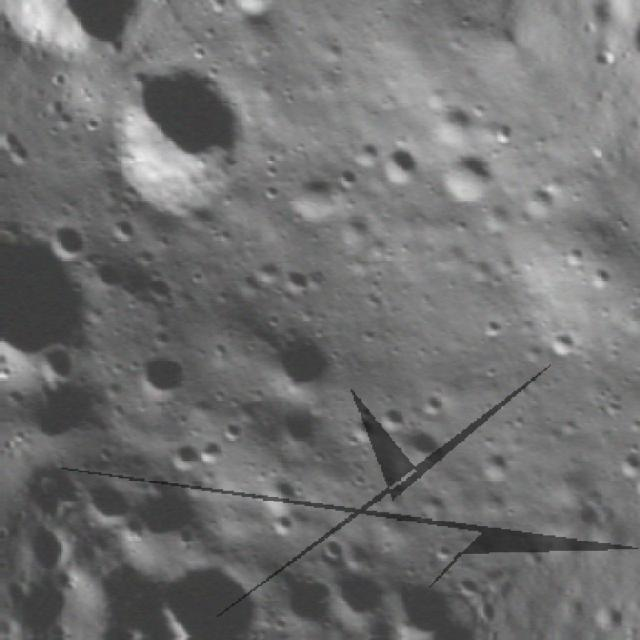crater: (76, 41, 276, 239), (0, 194, 129, 408), (140, 540, 283, 640), (5, 355, 116, 468), (250, 318, 347, 416), (369, 561, 464, 640), (122, 338, 205, 422), (263, 560, 346, 640), (316, 558, 396, 638), (426, 142, 508, 220), (273, 165, 350, 240), (71, 467, 144, 541), (261, 401, 333, 472), (386, 421, 452, 485), (25, 337, 89, 401), (36, 212, 98, 276), (367, 143, 427, 203), (74, 246, 132, 305), (248, 468, 306, 523), (331, 404, 384, 458), (238, 249, 290, 302), (468, 443, 518, 492), (135, 264, 183, 314), (158, 435, 208, 483), (539, 322, 587, 368), (276, 266, 321, 312), (225, 0, 292, 29), (370, 401, 413, 444), (98, 208, 139, 252), (0, 142, 42, 183), (325, 159, 366, 201), (607, 445, 640, 488), (264, 508, 299, 544), (0, 340, 18, 391)
